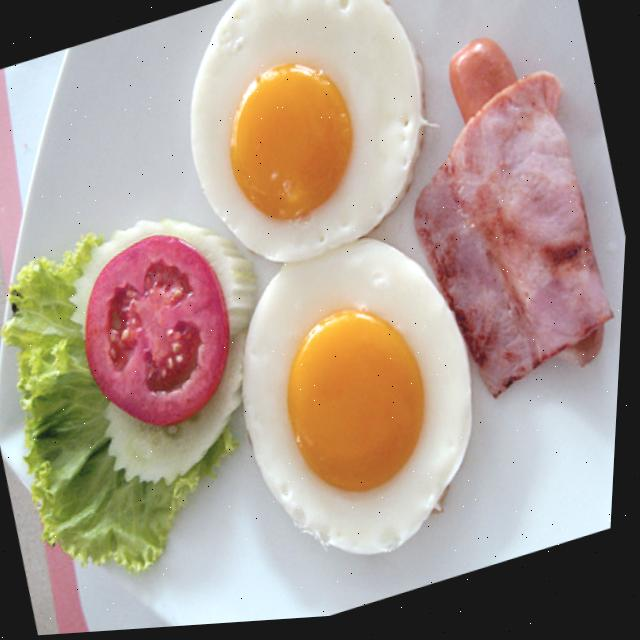鸡蛋料理: (120, 0, 535, 621)
